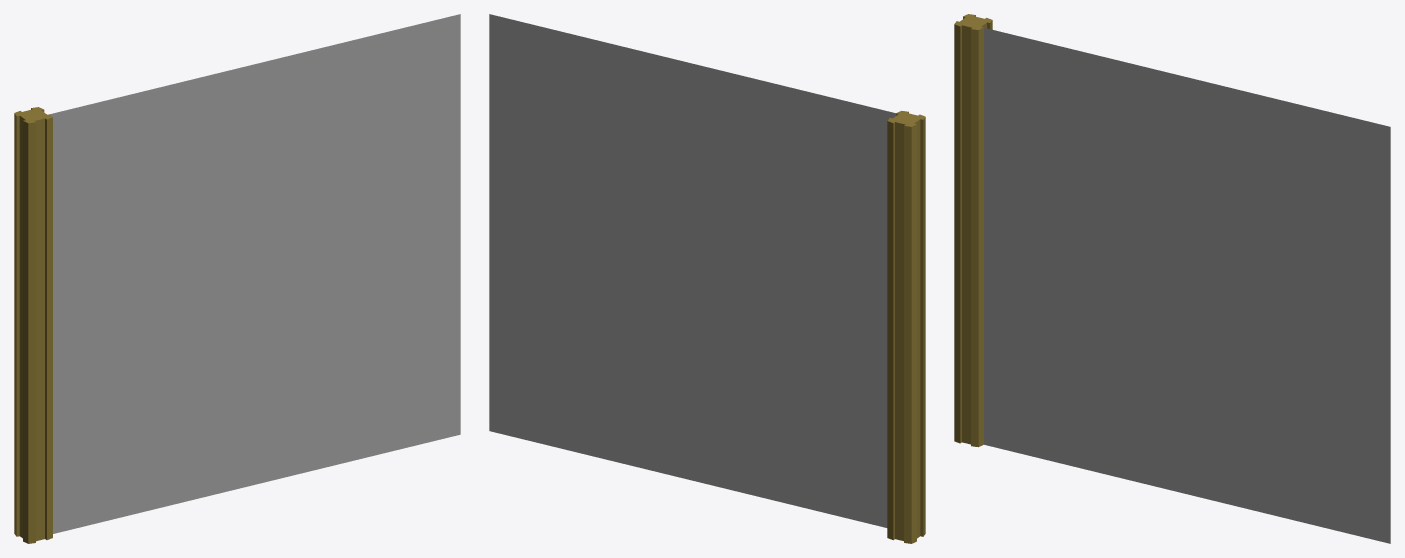
Rendered from BunkerWallFull.fbx.
3 views of the same model, side by side, from view 1: azimuth 30°, elevation 25°; view 2: azimuth 150°, elevation 25°; view 3: azimuth 330°, elevation 25° (orthographic).
Parts seen in each view (by area): view 1: BunkerWallBase1, BunkerWallBeamBase1; view 2: BunkerWallBase1, BunkerWallBeamBase1; view 3: BunkerWallBase1, BunkerWallBeamBase1.
Part boxes in pixels (x1,y1,x2,y2): BunkerWallBase1: [50, 14, 460, 533]; BunkerWallBeamBase1: [14, 107, 52, 543]; BunkerWallBase1: [489, 14, 896, 527]; BunkerWallBeamBase1: [887, 110, 925, 543]; BunkerWallBase1: [984, 27, 1390, 543]; BunkerWallBeamBase1: [954, 14, 992, 447].
Bounding box in the file's own units: 12916 × 11861 × 809.
